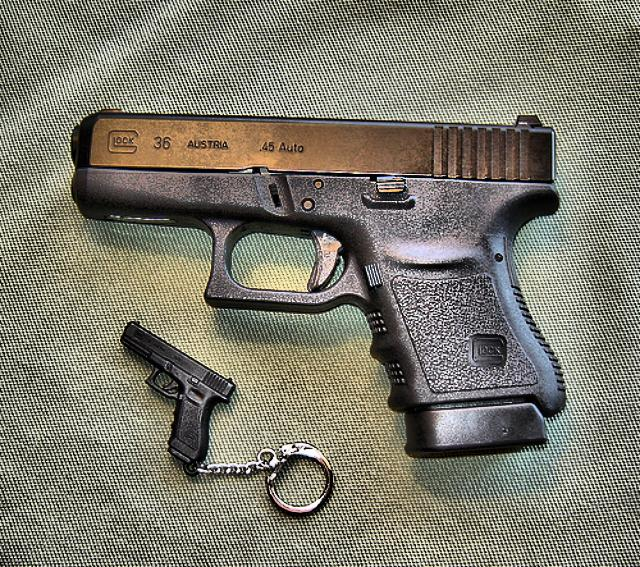pistol: (65, 103, 569, 461), (118, 319, 232, 475)
